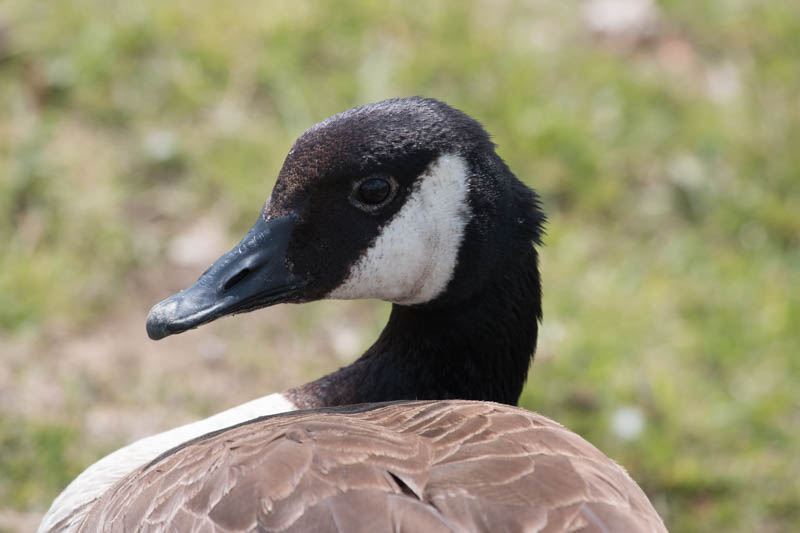goose-head: (147, 97, 542, 340)
